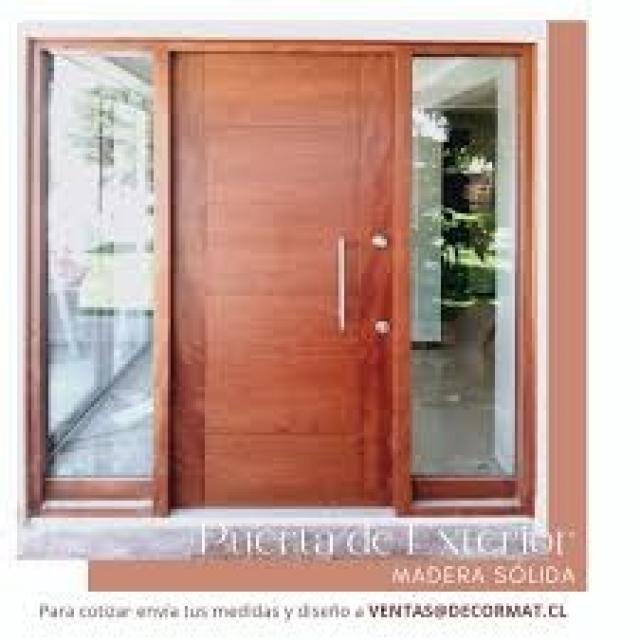door: (168, 47, 407, 511)
